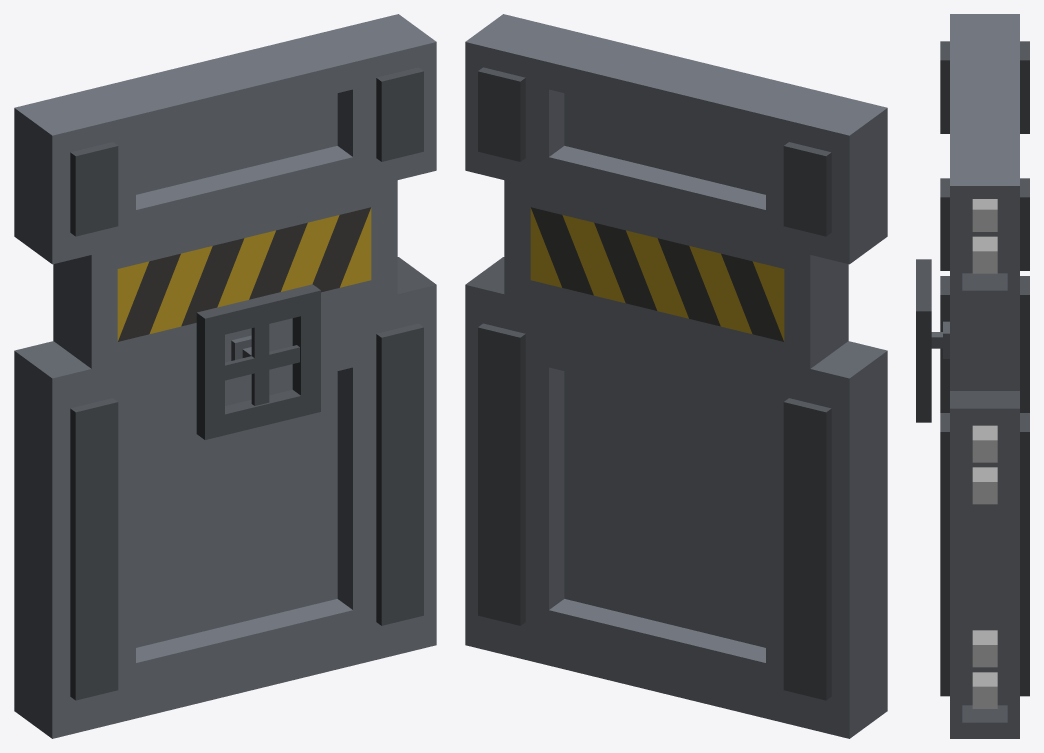
File: AI_Env_Bunker_Door.fbx
3 renders of one model, left to right at view 1: azimuth 30°, elevation 25°; view 2: azimuth 150°, elevation 25°; view 3: azimuth 270°, elevation 25°, orthographic. The views are drawn at different scales.
Visible parts, largest first — view 1: AI_Env_Bunker_Door; view 2: AI_Env_Bunker_Door; view 3: AI_Env_Bunker_Door.
Boxes of the visible parts, box(x1,y1,x2,y2) form: AI_Env_Bunker_Door: box(14, 14, 436, 738); AI_Env_Bunker_Door: box(465, 14, 887, 738); AI_Env_Bunker_Door: box(916, 14, 1029, 738).
Bounding box in the file's own units: 1.97 × 2.95 × 0.5505.
